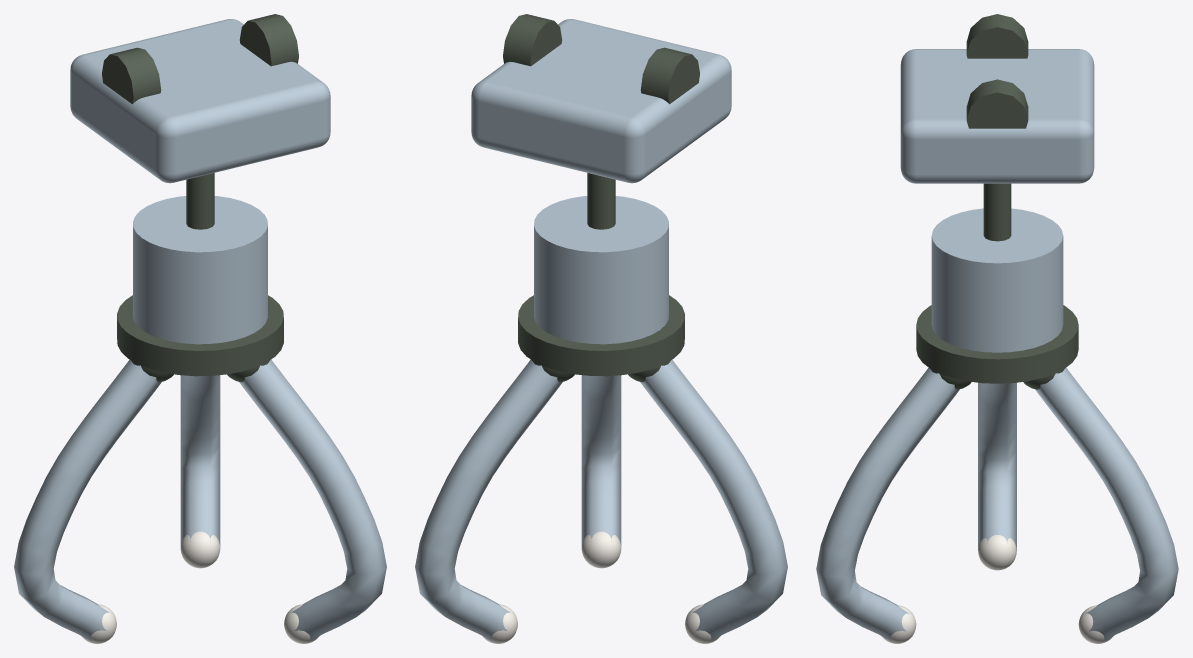
The model's file is claw-rig.prefab.glb.
3 renders of one model, left to right at view 1: azimuth 30°, elevation 25°; view 2: azimuth 150°, elevation 25°; view 3: azimuth 270°, elevation 25°, orthographic. The views are drawn at different scales.
Visible parts, largest first — view 1: ClawRig_Batch0, ClawHoist_Batch0, ClawProng0_Batch1, ClawProng1_Batch1, ClawProng2_Batch1, ClawHoist_Batch1, ClawRig_Batch1, ClawCable_Batch0, ClawProng2_Batch0, ClawProng0_Batch0, ClawProng1_Batch0; view 2: ClawRig_Batch0, ClawHoist_Batch0, ClawProng0_Batch1, ClawProng2_Batch1, ClawProng1_Batch1, ClawHoist_Batch1, ClawRig_Batch1, ClawCable_Batch0, ClawProng1_Batch0, ClawProng0_Batch0, ClawProng2_Batch0; view 3: ClawRig_Batch0, ClawHoist_Batch0, ClawProng1_Batch1, ClawProng2_Batch1, ClawProng0_Batch1, ClawHoist_Batch1, ClawRig_Batch1, ClawCable_Batch0, ClawProng0_Batch0, ClawProng1_Batch0, ClawProng2_Batch0.
Part boxes in pixels (box(x1,y1,x2,y2)): ClawRig_Batch0: box(70, 19, 330, 183); ClawHoist_Batch0: box(133, 196, 267, 344); ClawProng0_Batch1: box(14, 359, 161, 641); ClawProng1_Batch1: box(239, 359, 386, 641); ClawProng2_Batch1: box(180, 375, 220, 545); ClawHoist_Batch1: box(117, 295, 283, 376); ClawRig_Batch1: box(102, 14, 298, 104); ClawCable_Batch0: box(186, 173, 214, 229); ClawProng2_Batch0: box(180, 531, 220, 568); ClawProng0_Batch0: box(81, 360, 173, 643); ClawProng1_Batch0: box(227, 360, 319, 643); ClawRig_Batch0: box(471, 19, 731, 183); ClawHoist_Batch0: box(534, 196, 668, 344); ClawProng0_Batch1: box(640, 359, 787, 641); ClawProng2_Batch1: box(415, 359, 562, 641); ClawProng1_Batch1: box(581, 375, 621, 545); ClawHoist_Batch1: box(518, 295, 684, 376); ClawRig_Batch1: box(503, 14, 699, 104); ClawCable_Batch0: box(587, 173, 615, 229); ClawProng1_Batch0: box(581, 531, 621, 568); ClawProng0_Batch0: box(628, 360, 720, 643); ClawProng2_Batch0: box(482, 360, 574, 643); ClawRig_Batch0: box(900, 49, 1094, 183); ClawHoist_Batch0: box(931, 208, 1063, 352); ClawProng1_Batch1: box(816, 367, 959, 641); ClawProng2_Batch1: box(1035, 367, 1178, 641); ClawProng0_Batch1: box(978, 382, 1016, 550); ClawHoist_Batch1: box(916, 305, 1078, 383); ClawRig_Batch1: box(966, 14, 1028, 128); ClawCable_Batch0: box(983, 183, 1011, 241); ClawProng0_Batch0: box(978, 535, 1016, 570); ClawProng1_Batch0: box(881, 369, 971, 643); ClawProng2_Batch0: box(1023, 369, 1113, 643).
Size of the model in its own units: 0.0406 by 0.0805 by 0.0469.
2 materials, 2 textured.
